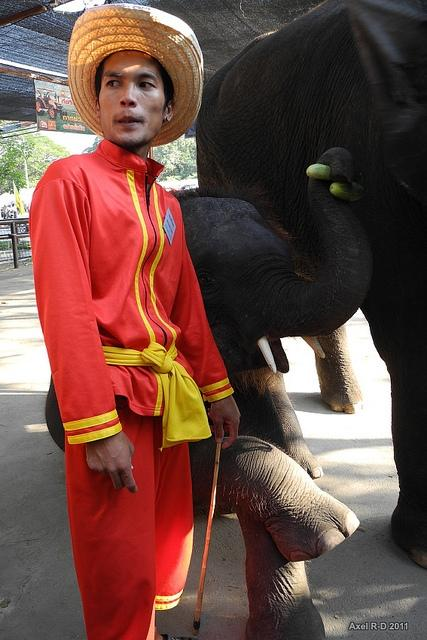cucumber: (330, 182, 360, 201), (306, 164, 332, 180)
